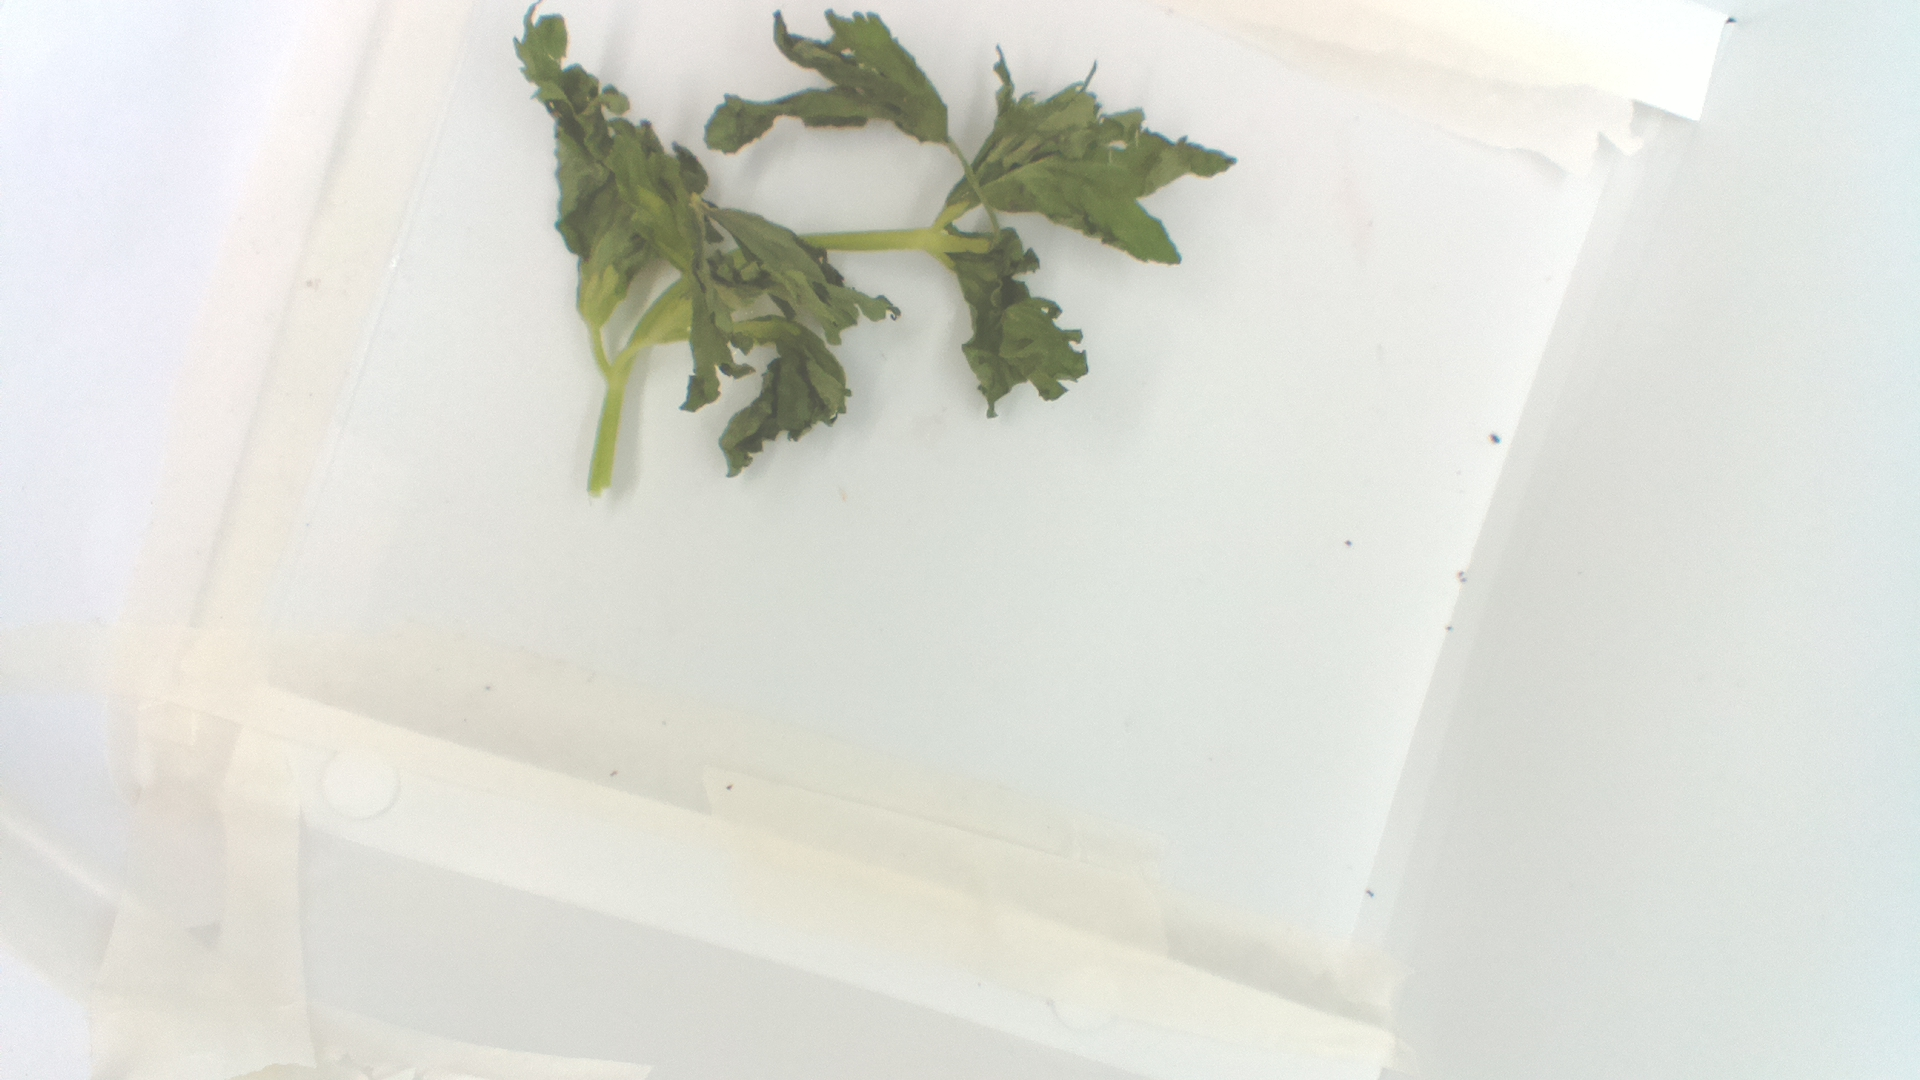vegetable: (506, 1, 1237, 502)
